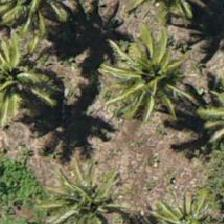coconut_tree: (99, 27, 189, 117)
